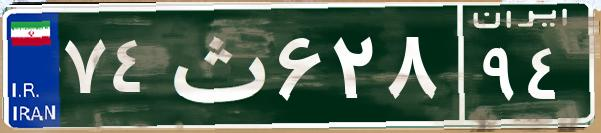2: (330, 28, 385, 110)
4: (110, 28, 158, 105), (525, 38, 570, 115)
6: (273, 28, 330, 110)
7: (57, 26, 110, 107)
8: (385, 28, 445, 110)
9: (475, 38, 525, 113)
ث: (158, 15, 273, 115)
